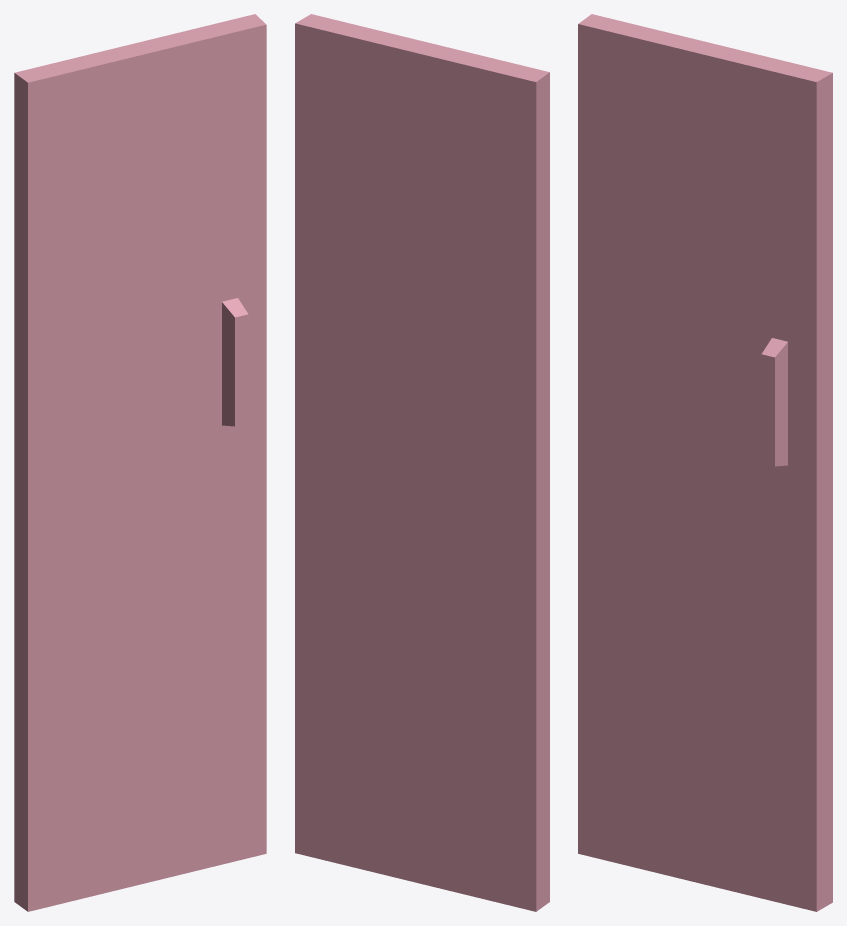
The model's file is CabinetDoor1.fbx.
3 renders of one model, left to right at view 1: azimuth 30°, elevation 25°; view 2: azimuth 150°, elevation 25°; view 3: azimuth 330°, elevation 25°, orthographic.
Parts seen in each view (by area): view 1: CabinetDoor1; view 2: CabinetDoor1; view 3: CabinetDoor1.
Boxes of the visible parts, x1,y1,x2,y2 form: CabinetDoor1: (14, 14, 266, 911); CabinetDoor1: (295, 14, 549, 911); CabinetDoor1: (578, 14, 832, 911).
Size of the model in its own units: 54.66 by 180 by 10.04.
